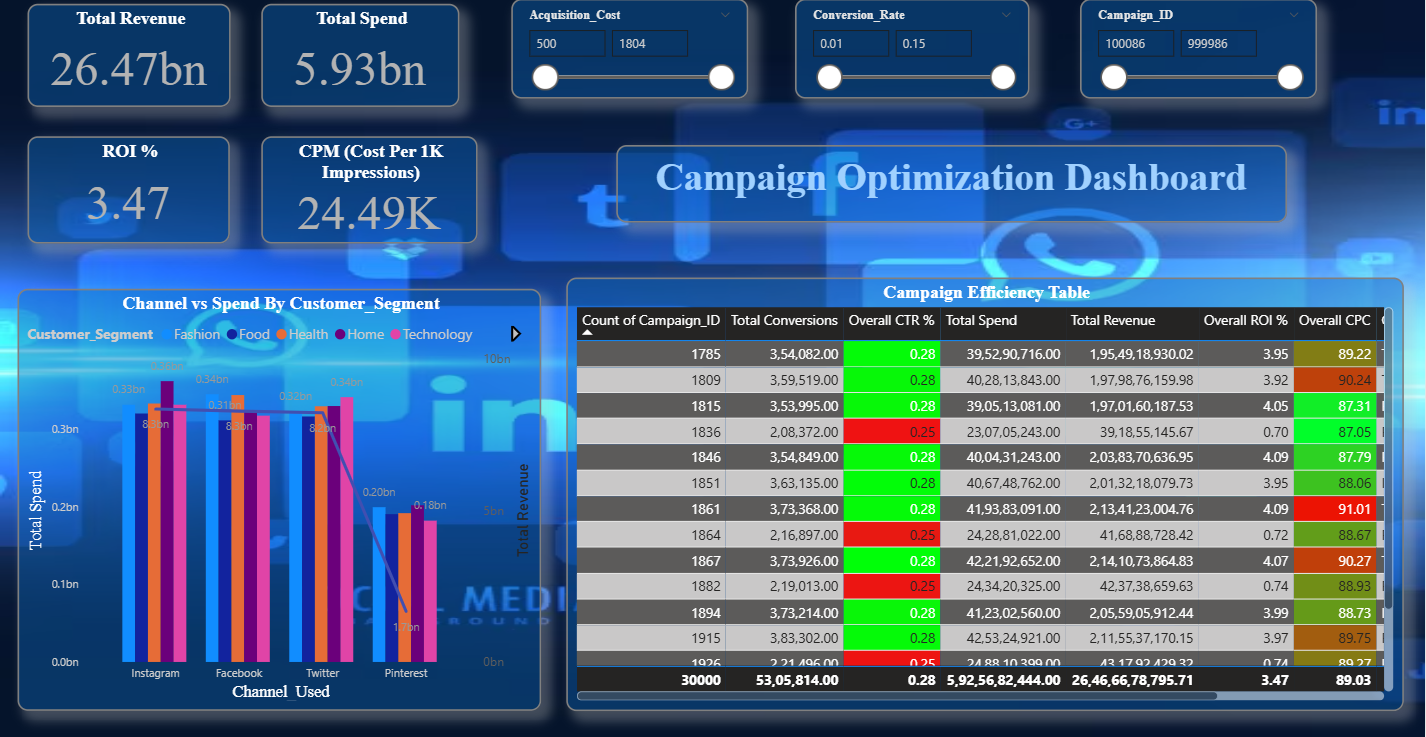

Layout of this report page (visuals, bound fields, positions):
{"tool":"powerbi","page":{"name":"Campaign Optimization","canvas":[1380,720],"ordinal":2},"visuals":[{"type":"slicer","fields":{"Values":["Ads.Campaign_ID"]},"box":[1045.5,3.8,229.4,96.5],"z":0},{"type":"slicer","fields":{"Values":["Ads.Acquisition_Cost"]},"box":[495.2,3.8,229.4,96.5],"z":1000},{"type":"slicer","fields":{"Values":["Ads.Conversion_Rate"]},"box":[769.7,3.8,226.9,96.5],"z":2000},{"type":"card","title":"Total Spend","fields":{"Values":["Ads.Total Spend"]},"box":[253.2,8.8,191.8,100.3],"z":3000},{"type":"card","title":"Total Revenue","fields":{"Values":["Ads.Total Revenue"]},"box":[26.3,8.8,196.8,100.3],"z":4000},{"type":"card","title":"ROI %","fields":{"Values":["Ads.Overall ROI %"]},"box":[26.6,136.8,196.1,104.1],"z":5000},{"type":"card","title":"CPM (Cost Per 1K Impressions)","fields":{"Values":["Ads.Overall CPM"]},"box":[253.2,136.6,209.4,104.1],"z":6000},{"type":"lineClusteredColumnComboChart","title":"Channel vs Spend By Customer_Segment","fields":{"Y":["Ads.Total Spend"],"Y2":["Ads.Total Revenue"],"Category":["Ads.Channel_Used"],"Series":["Ads.Customer_Segment"]},"box":[16.9,284.5,507.2,409.1],"z":7000},{"type":"tableEx","title":"Campaign Efficiency Table","fields":{"Values":["CountNonNull(Ads.Campaign_ID)","Ads.Total Conversions","Ads.Overall CTR %","Ads.Total Spend","Ads.Total Revenue","Ads.Overall ROI %","Ads.Overall CPC","Ads.Channel_Used","Ads.Campaign_Goal"]},"box":[548.4,273.6,811,420],"z":9000},{"type":"textbox","box":[596.7,145.4,649.4,75.2],"z":9001}]}

Visuals, with their boxes in screenshot pixels (x1, y1, x2, y2), scaled from the page's 1380x720 canvas onto the 1426x737 screenshot:
slicer - Ads.Campaign_ID: 1080,4,1317,103
slicer - Ads.Acquisition_Cost: 512,4,749,103
slicer - Ads.Conversion_Rate: 795,4,1030,103
"Total Spend" card: 262,9,460,112
"Total Revenue" card: 27,9,231,112
"ROI %" card: 27,140,230,247
"CPM (Cost Per 1K Impressions)" card: 262,140,478,246
"Channel vs Spend By Customer_Segment" lineClusteredColumnComboChart: 17,291,542,710
"Campaign Efficiency Table" tableEx: 567,280,1405,710
textbox: 617,149,1288,226
